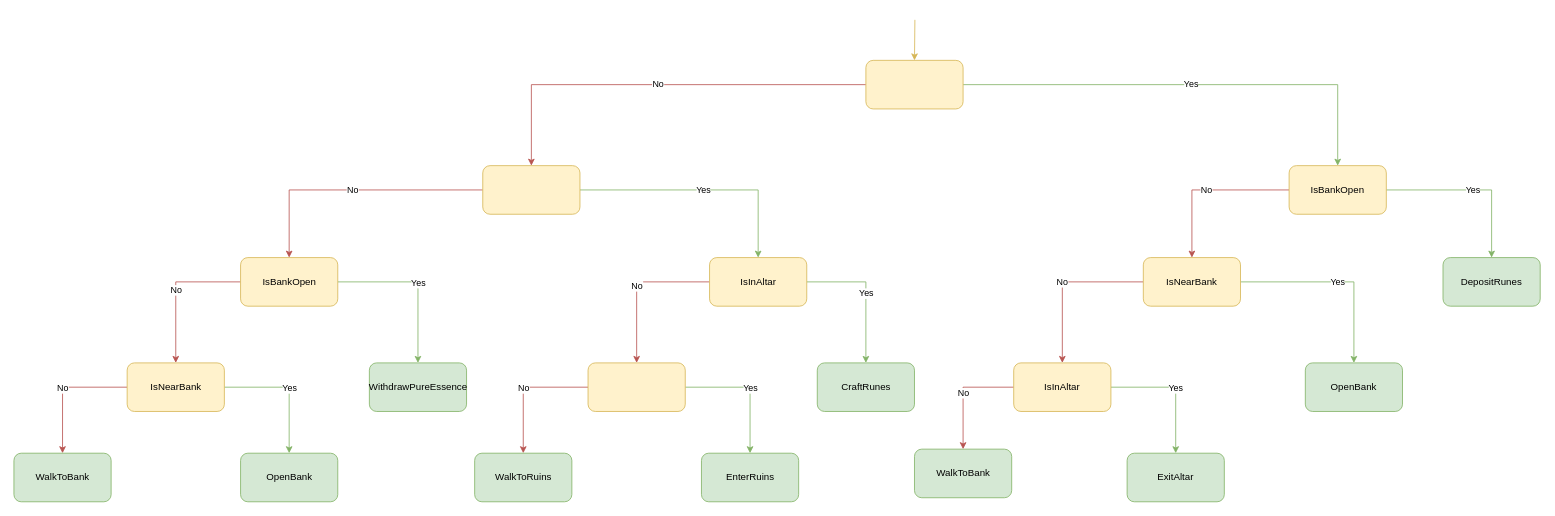
The diagram is 1555 pixels wide and 516 high, and some of its shapes have lost their labels. The shapes that lost their labels are listed below. From the top down, each one's box as (x1, y1, x2, y2) in pixels, then its label:
(865, 60, 963, 109): HasRunes
(482, 165, 580, 214): HasPureEssence
(587, 362, 685, 411): IsNearRuins
